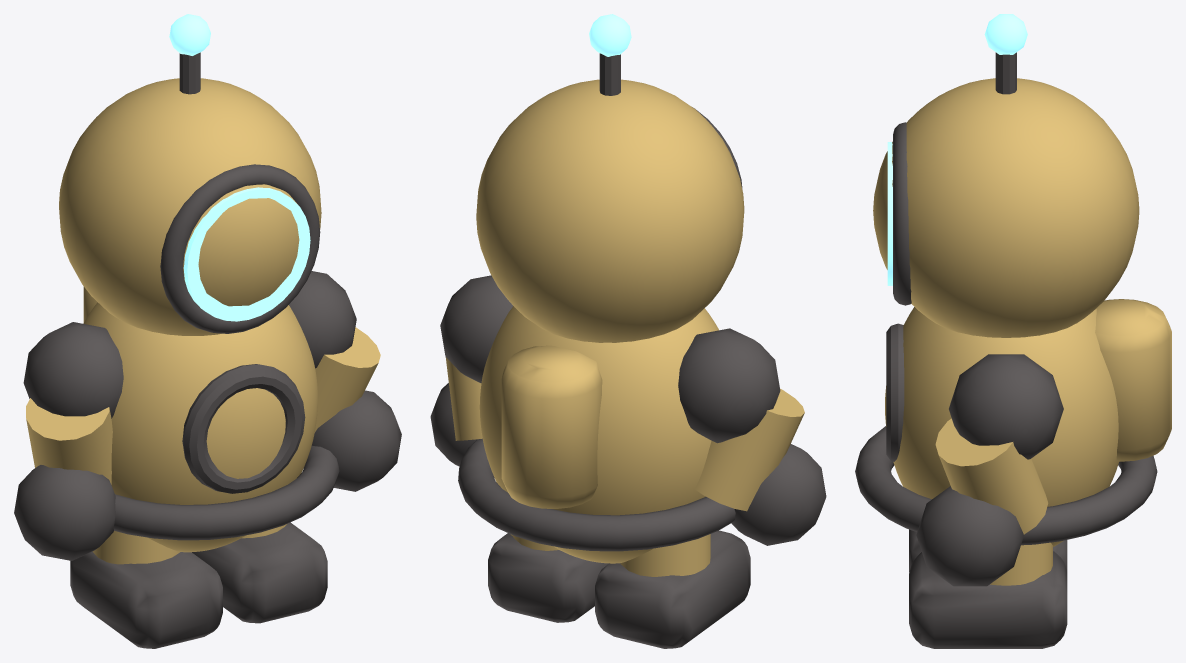
The model's file is diver.glb.
3 views of the same model, side by side, from view 1: azimuth 30°, elevation 25°; view 2: azimuth 150°, elevation 25°; view 3: azimuth 270°, elevation 25° (orthographic). The views are drawn at different scales.
Parts seen in each view (by area): view 1: Diver; view 2: Diver; view 3: Diver.
Part boxes in pixels (box(x1,y1,x2,y2)): Diver: box(14, 14, 401, 648); Diver: box(430, 14, 826, 648); Diver: box(855, 14, 1171, 648).
Bounding box in the file's own units: 1.21 × 1.82 × 0.88.
